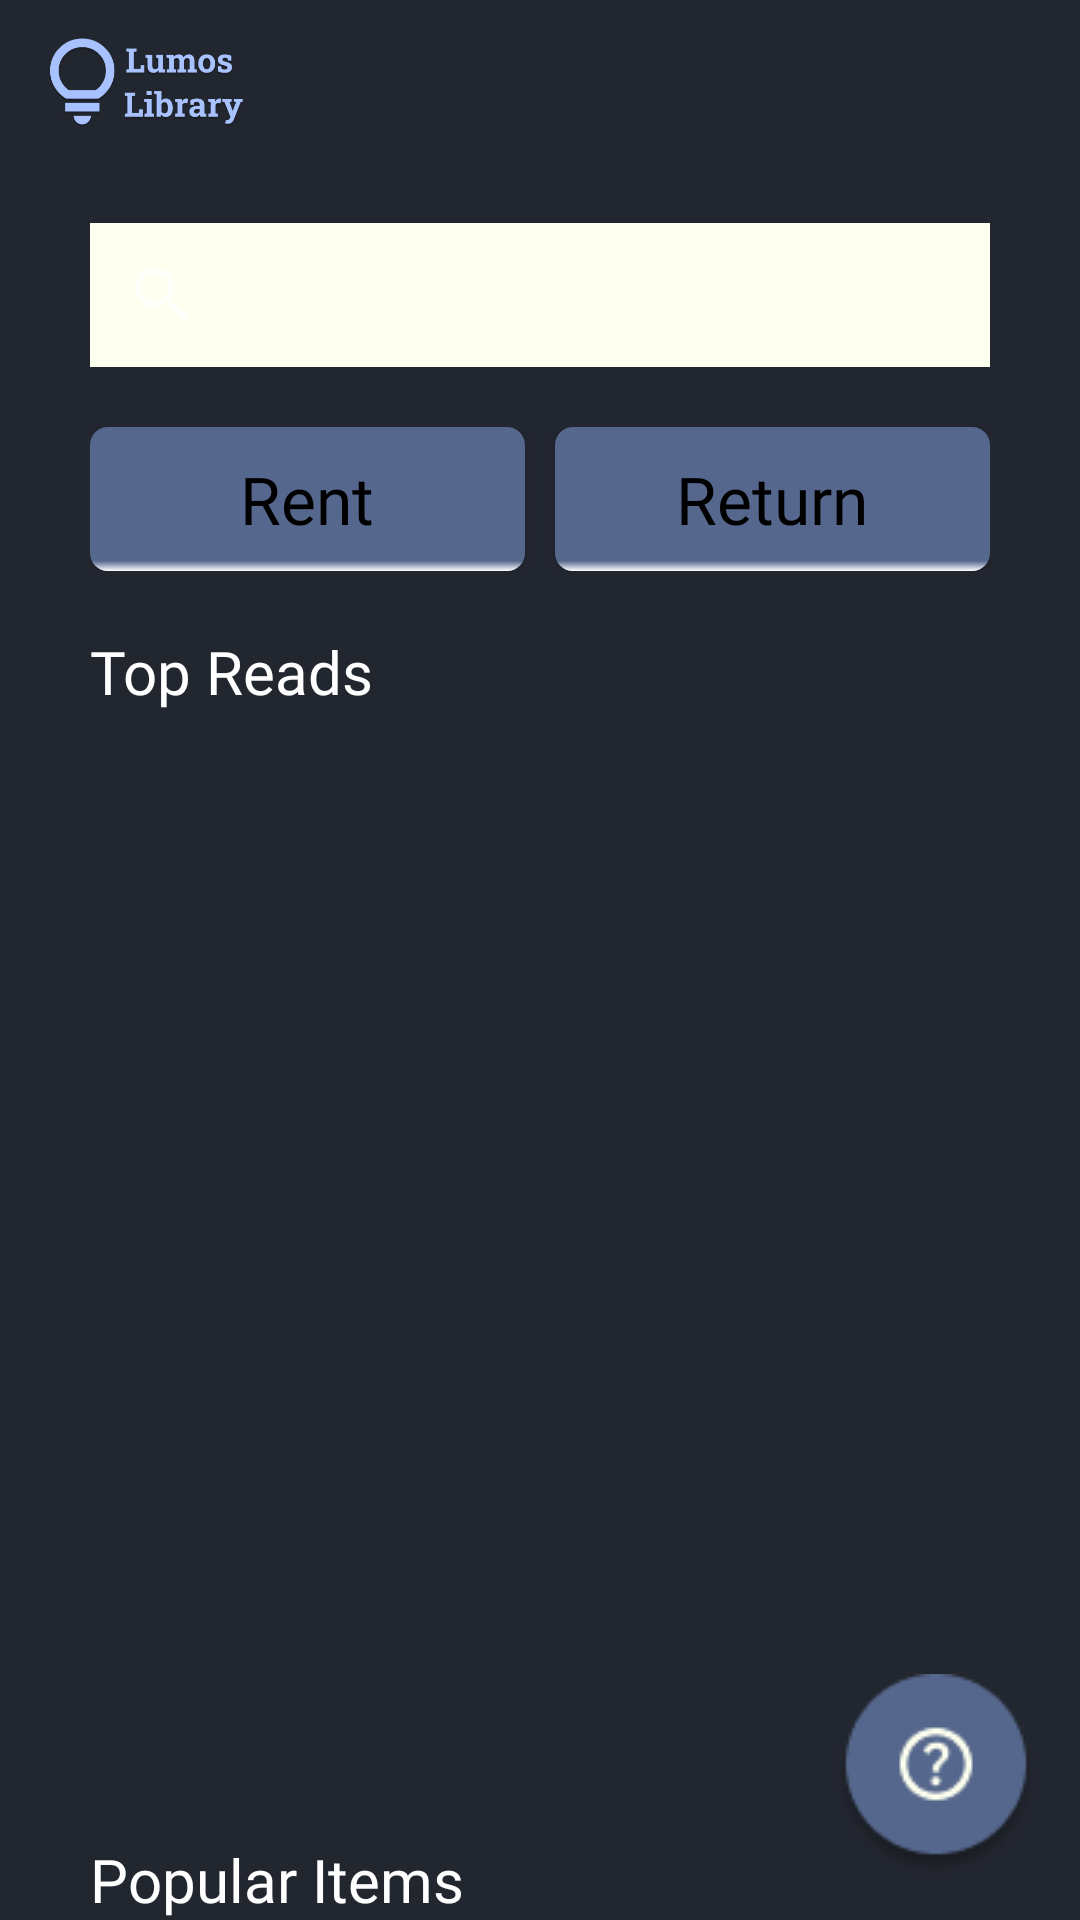

Named icons in this screenshot (1080w x 1920h) and their centers, (x=x, y=y):
Help Button: (x=936, y=1764)
